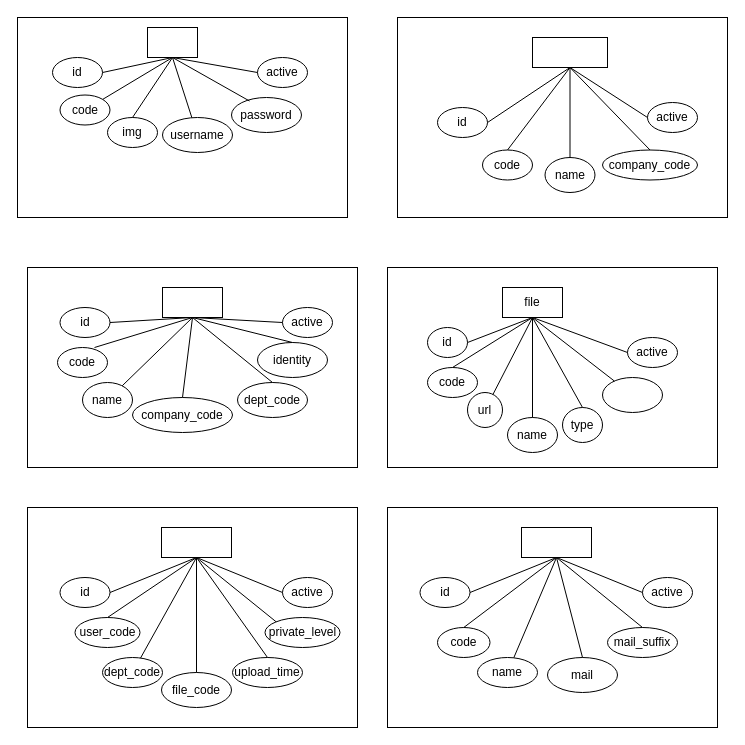
This 745x745 diagram has some shape labels left out. Here are the shapes that lost their labels. From the top down, the box of each, then its label:
(146, 26, 198, 58): user
(532, 36, 608, 68): department
(162, 286, 222, 318): user_info
(602, 376, 662, 412): md5code
(160, 526, 232, 558): upload_info
(520, 526, 592, 558): company
